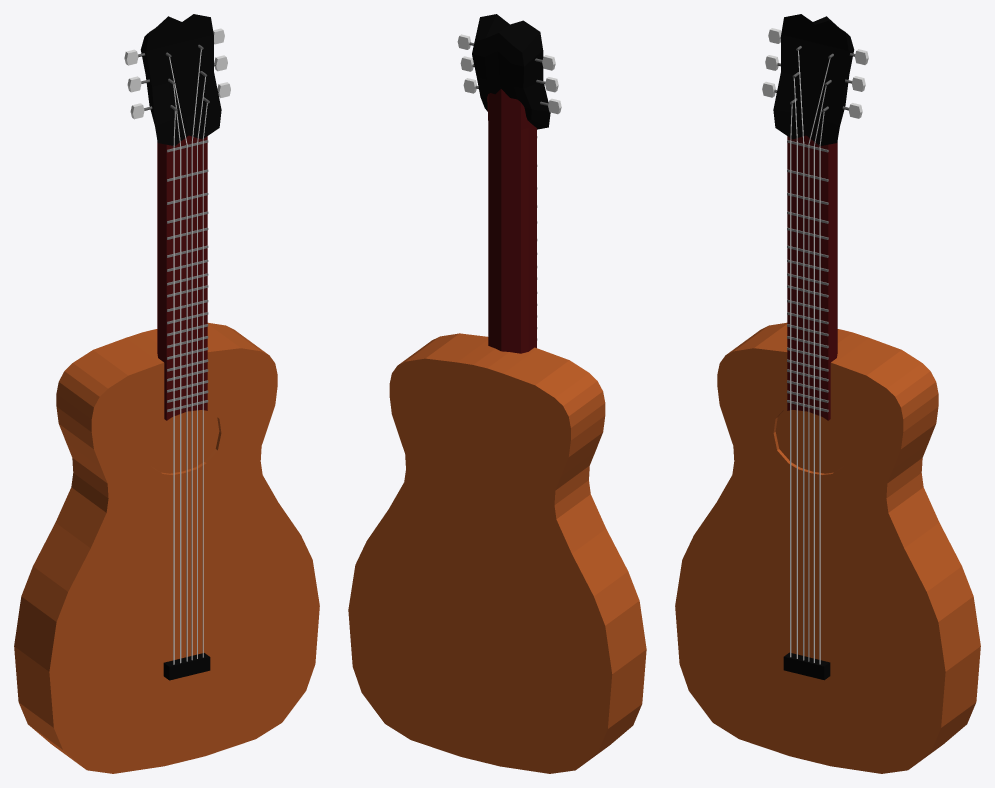
File: guitar.fbx
3 views of the same model, side by side, from view 1: azimuth 30°, elevation 25°; view 2: azimuth 150°, elevation 25°; view 3: azimuth 330°, elevation 25° (orthographic). The views are drawn at different scales.
Parts seen in each view (by area): view 1: Cube, Cube.001, Cube.002, Cube.005, Cube.006, Cube.013, Cube.011, Cube.012, Cube.014, Cube.015, Cube.004, Cube.003; view 2: Cube, Cube.001, Cube.002, Cube.004, Cube.003; view 3: Cube, Cube.001, Cube.002, Cube.005, Cube.011, Cube.006, Cube.010, Cube.013, Cube.014, Cube.012, Cube.015, Cube.003 (+1 smaller).
Part boxes in pixels (x1,y1,x2,y2): Cube: (14, 322, 319, 773); Cube.001: (157, 135, 207, 420); Cube.002: (140, 14, 221, 145); Cube.005: (167, 140, 208, 412); Cube.006: (191, 143, 192, 660); Cube.013: (180, 146, 181, 663); Cube.011: (202, 141, 203, 657); Cube.012: (186, 145, 187, 661); Cube.014: (173, 148, 174, 664); Cube.015: (163, 653, 210, 680); Cube.004: (124, 49, 144, 119); Cube.003: (213, 28, 230, 97); Cube: (348, 333, 646, 773); Cube.001: (487, 89, 536, 353); Cube.002: (472, 14, 550, 129); Cube.004: (542, 55, 561, 114); Cube.003: (457, 34, 476, 93); Cube: (675, 322, 980, 773); Cube.001: (787, 135, 837, 420); Cube.002: (773, 14, 854, 145); Cube.005: (787, 140, 828, 412); Cube.011: (819, 147, 820, 664); Cube.006: (808, 145, 809, 661); Cube.010: (813, 146, 814, 662); Cube.013: (796, 142, 797, 658); Cube.014: (790, 140, 791, 657); Cube.012: (803, 144, 804, 660); Cube.015: (783, 652, 830, 680); Cube.003: (848, 49, 868, 118).
Bounding box in the file's own units: 1328 × 3474 × 348.
